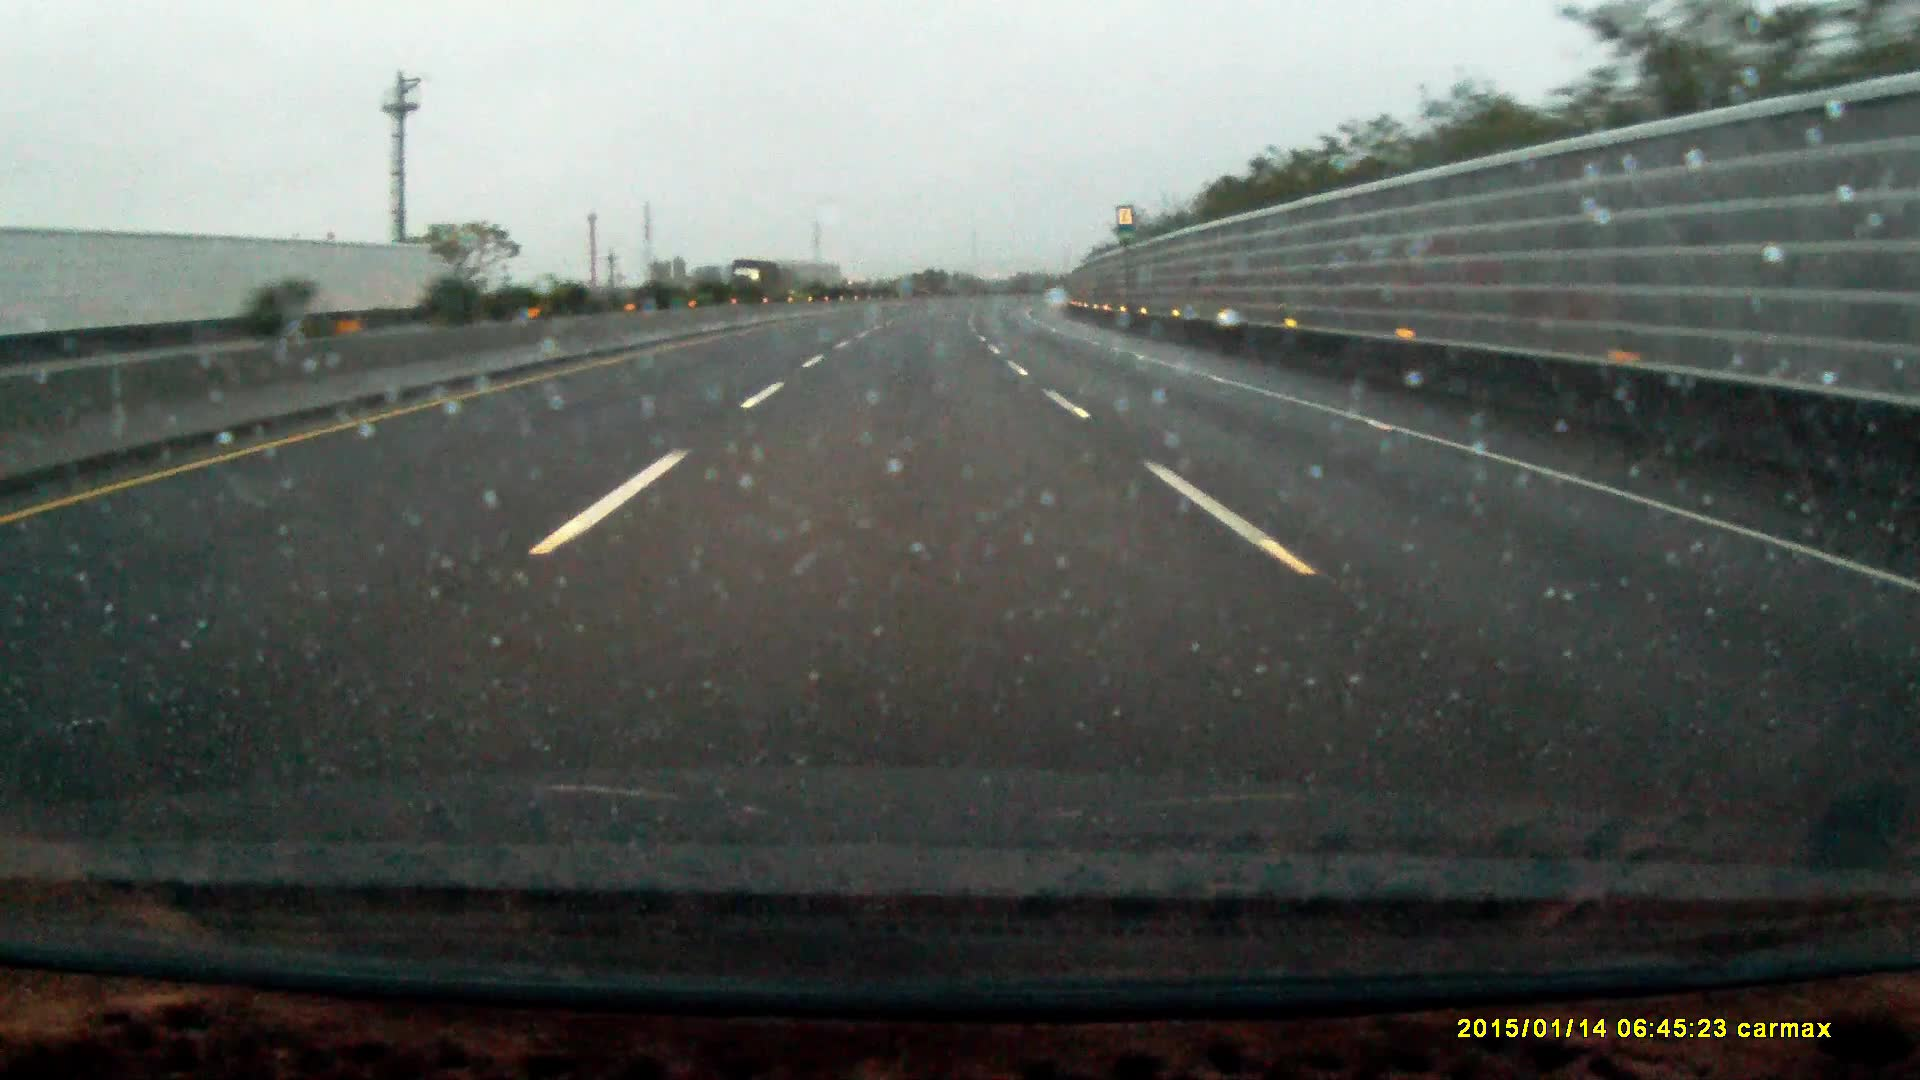vehicle: (731, 264, 781, 301)
